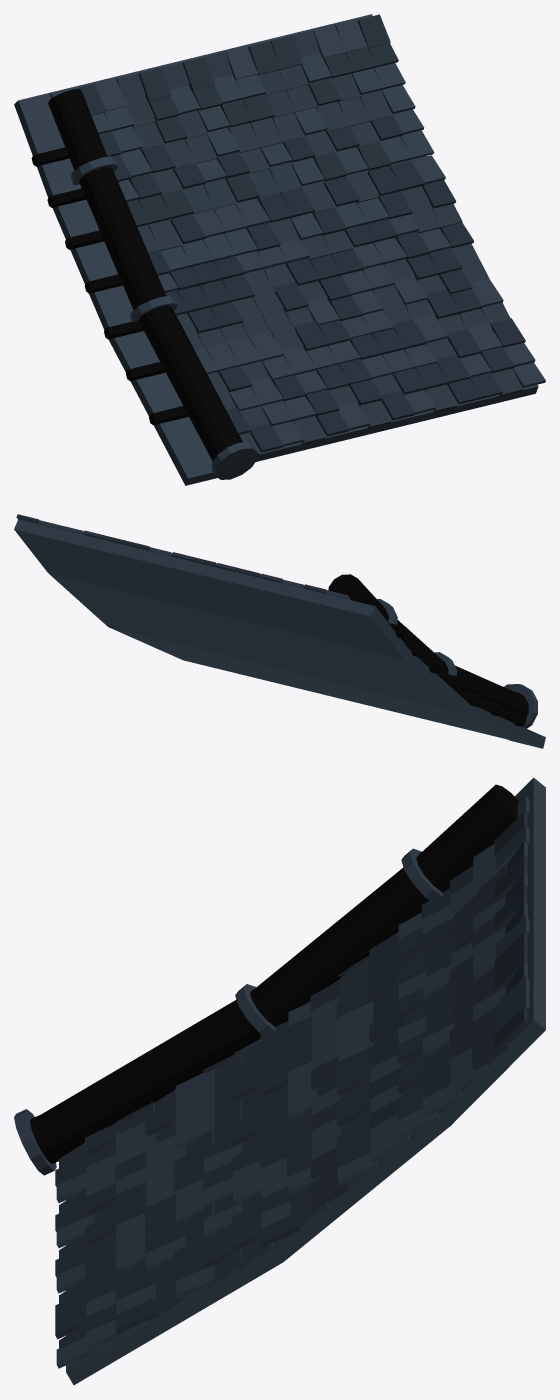
Rendered from Roof_Tile07_JP.fbx.
The picture shows the model from 3 angles, top to bottom: view 1: azimuth 30°, elevation 25°; view 2: azimuth 150°, elevation 25°; view 3: azimuth 270°, elevation 25°; orthographic projection. The views are drawn at different scales.
Parts seen in each view (by area): view 1: Roof_Tile07_JP_LOD0; view 2: Roof_Tile07_JP_LOD0; view 3: Roof_Tile07_JP_LOD0.
Boxes of the visible parts, <box> form: Roof_Tile07_JP_LOD0: <box>14,14,545,485</box>; Roof_Tile07_JP_LOD0: <box>14,514,545,748</box>; Roof_Tile07_JP_LOD0: <box>14,777,545,1384</box>.
Size of what is drawn, in the model's own units: 721 by 519 by 647.
